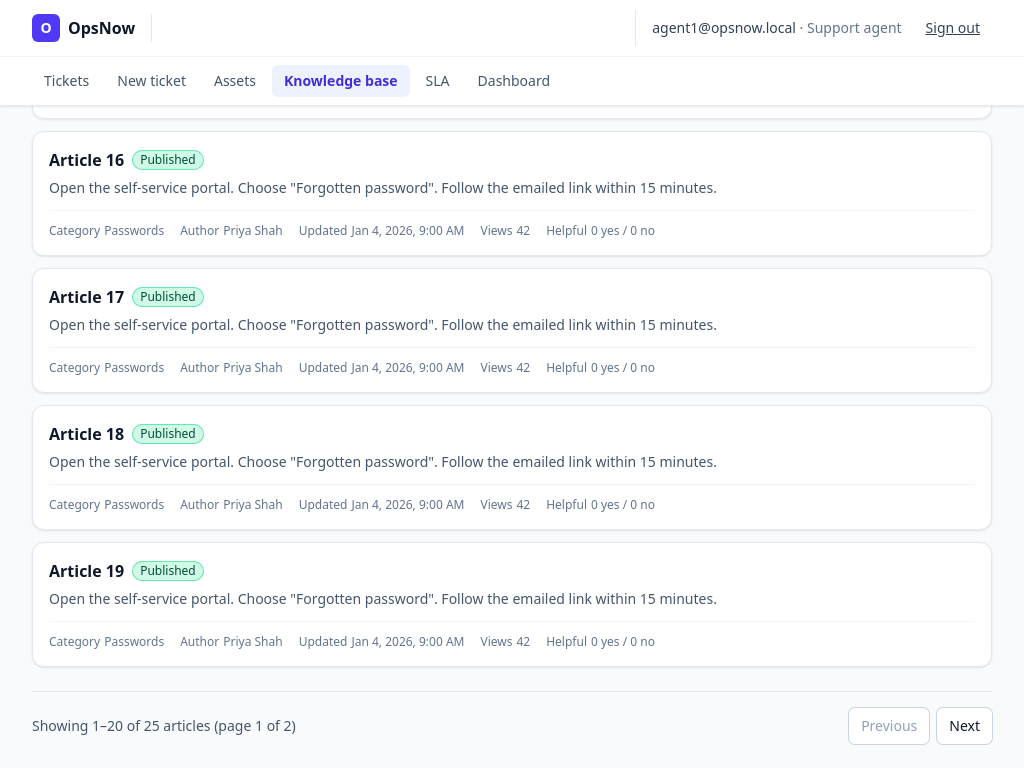
Test: article list — pagination › reports the visible range and moves between pages
(page scrolled)
expect the text "Showing 1–20 of 25 articles (page 1 of 2)" is shown: met, box top-left (32, 716), bottom-right (296, 736)
expect the button "Previous" is disabled: met, box top-left (849, 708), bottom-right (929, 744)
Click the button "Next": (965, 726) top-left (937, 708), bottom-right (992, 744)
(page scrolled)
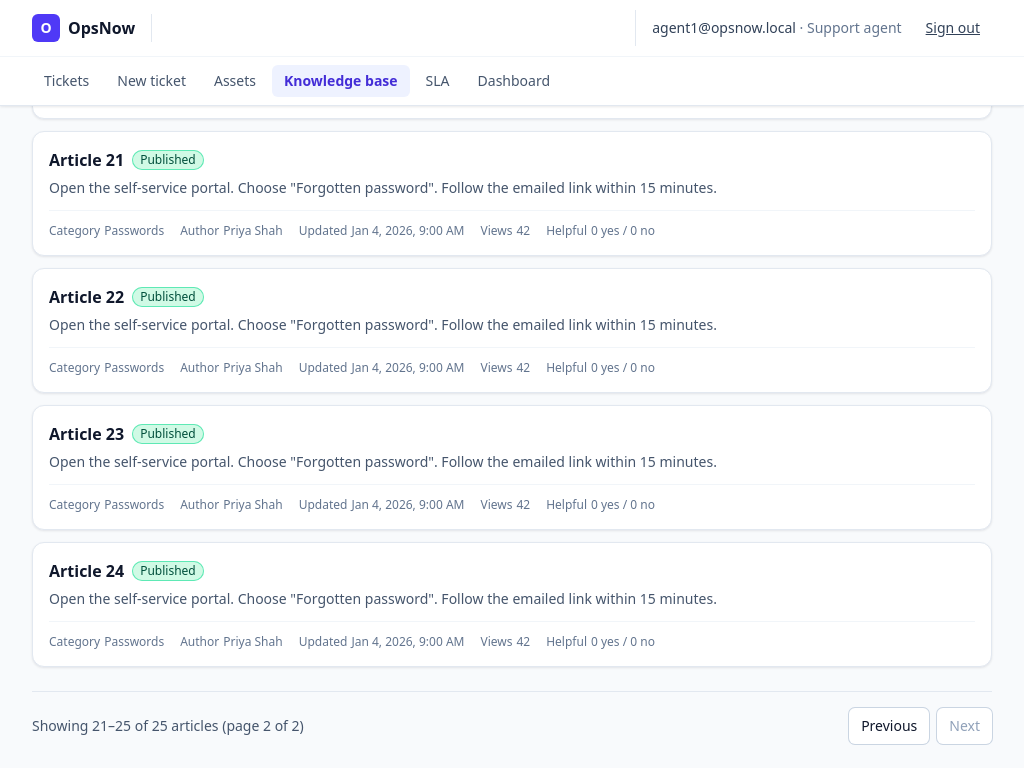
expect the text "Showing 21–25 of 25 articles (page 2 of 2)" is shown: met, box top-left (32, 716), bottom-right (304, 736)
expect the link "Article 24" is shown: met, box top-left (49, 559), bottom-right (124, 583)
